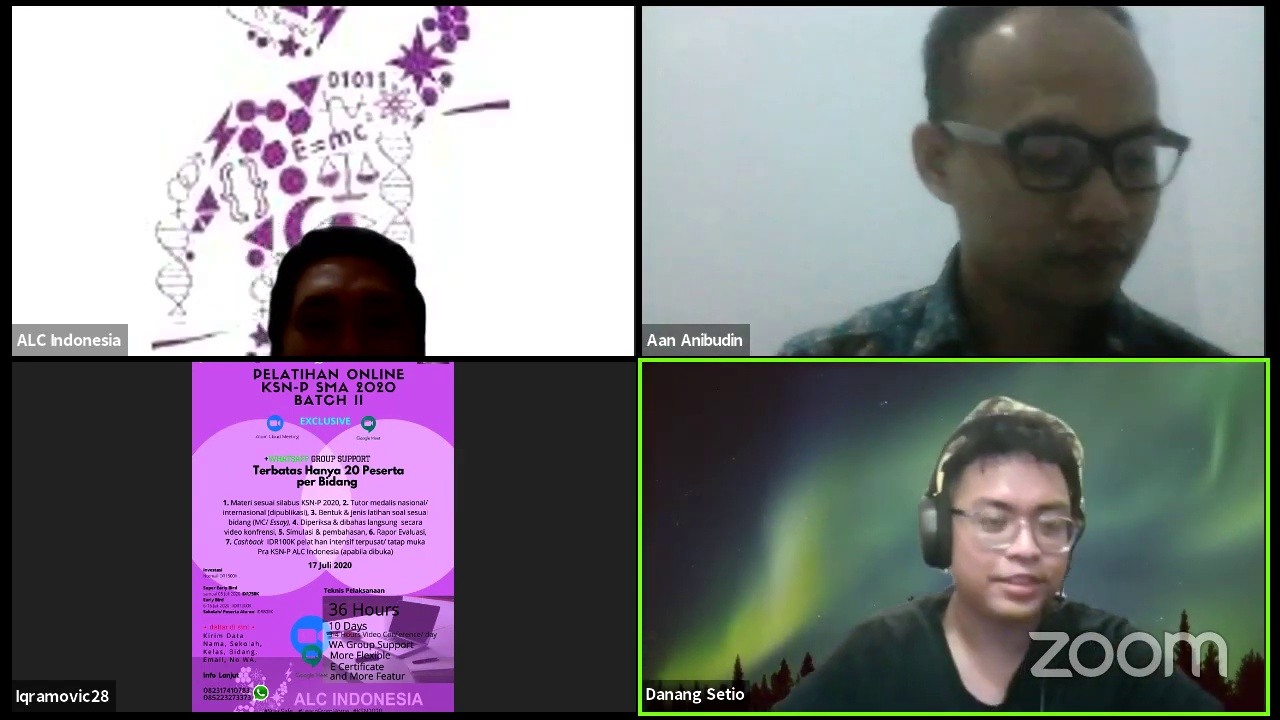Distracted: (907, 14, 1180, 314)
Not Distracted: (926, 425, 1080, 620), (265, 252, 425, 353)
